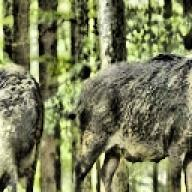boar: (64, 46, 192, 192), (0, 58, 45, 192)
